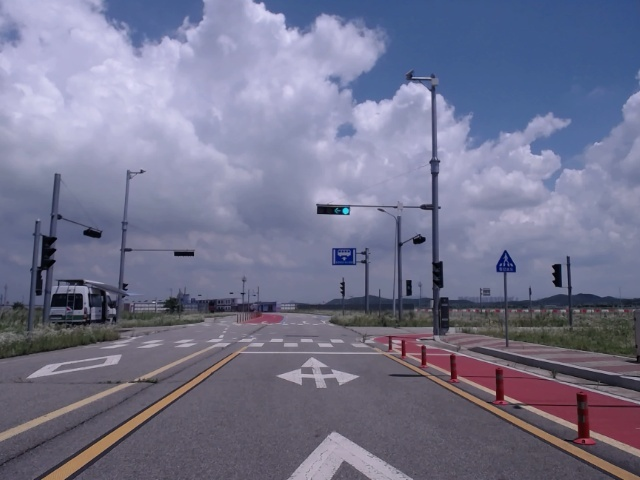all_green_4: (317, 203, 351, 215)
